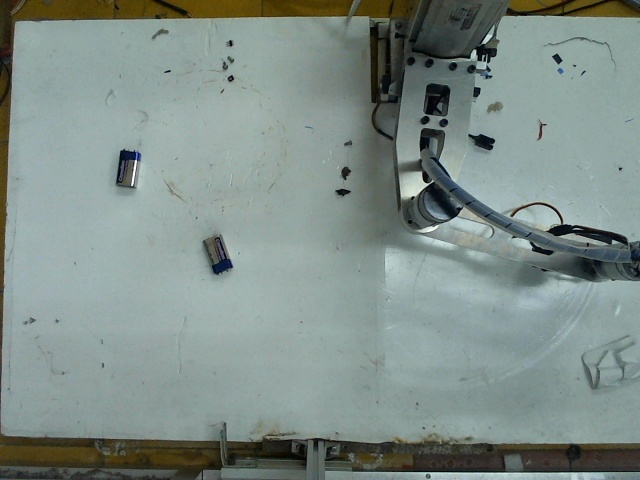battery: (198, 231, 237, 275), (113, 144, 141, 185)
